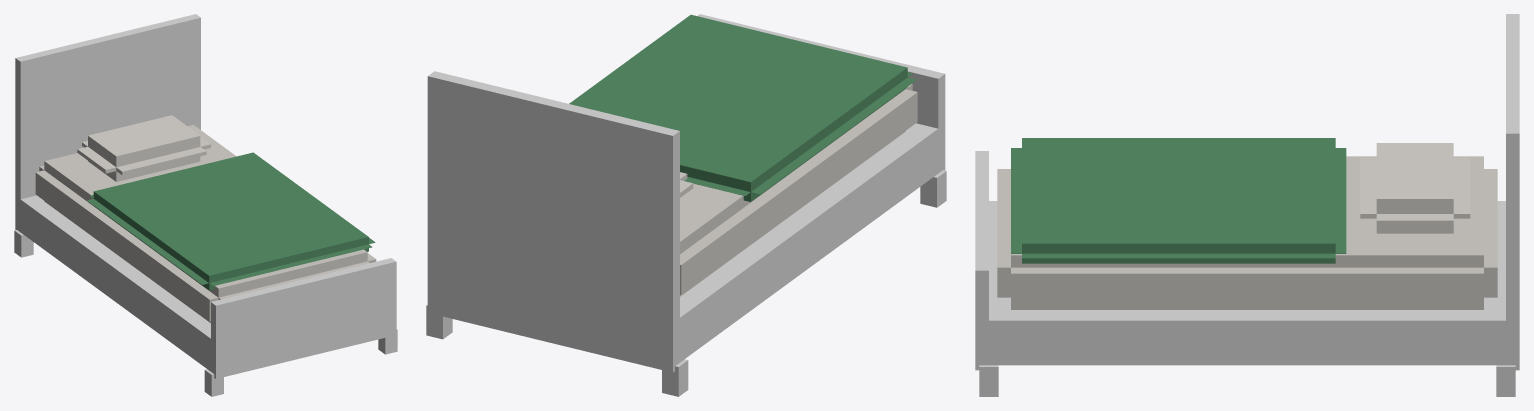
Rendered from bed-single-green.glb.
3 views of the same model, side by side, from view 1: azimuth 30°, elevation 25°; view 2: azimuth 150°, elevation 25°; view 3: azimuth 270°, elevation 25° (orthographic). The views are drawn at different scales.
Parts seen in each view (by area): view 1: bed-single-green; view 2: bed-single-green; view 3: bed-single-green.
Part boxes in pixels (x1,y1,x2,y2): bed-single-green: (14, 14, 397, 396); bed-single-green: (426, 14, 946, 396); bed-single-green: (975, 14, 1519, 396).
Bounding box in the file's own units: 1.22 × 1.21 × 2.28.
